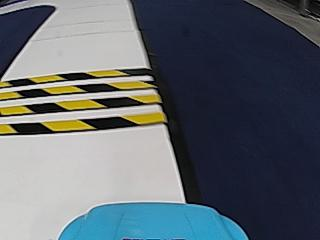bump: (1, 60, 165, 142)
